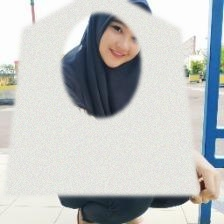Mukena: (3, 0, 199, 196)
